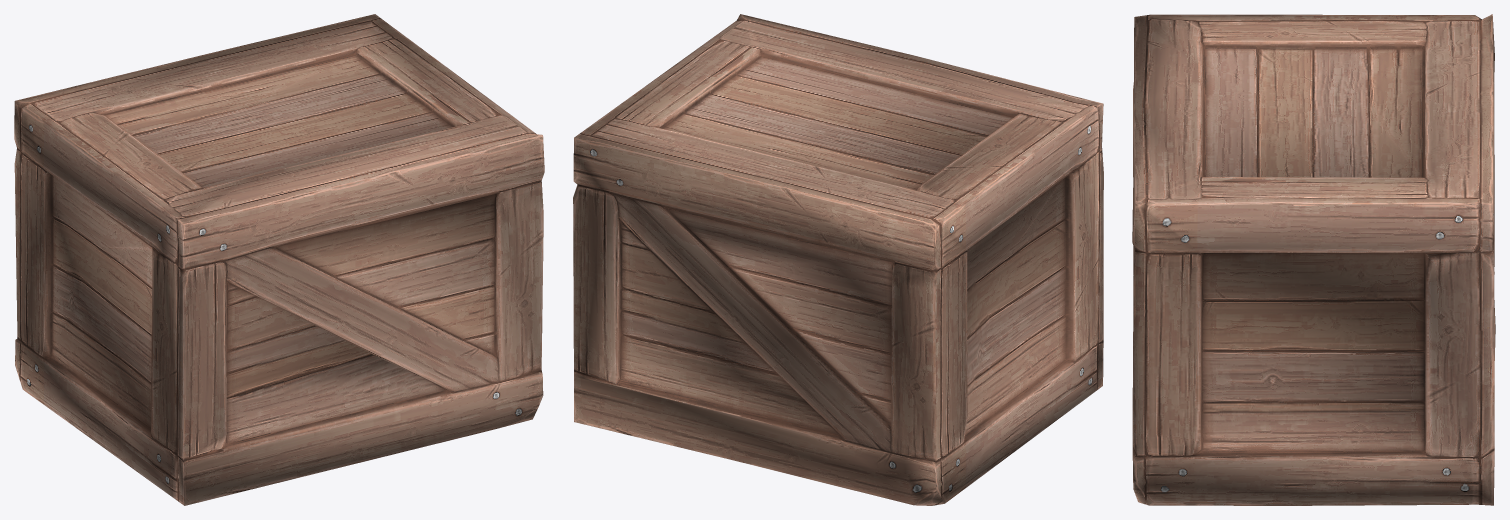
File: Box_Wood_01_LOD1.fbx
The picture shows the model from 3 angles, left to right: view 1: azimuth 30°, elevation 25°; view 2: azimuth 150°, elevation 25°; view 3: azimuth 270°, elevation 25°; orthographic projection. The views are drawn at different scales.
Visible parts, largest first — view 1: Box_Wood_01_LOD1; view 2: Box_Wood_01_LOD1; view 3: Box_Wood_01_LOD1.
Part boxes in pixels (<box>): Box_Wood_01_LOD1: <box>14,14,544,505</box>; Box_Wood_01_LOD1: <box>573,14,1103,505</box>; Box_Wood_01_LOD1: <box>1132,14,1495,505</box>.
Size of the model in its own units: 401 by 300 by 325.
